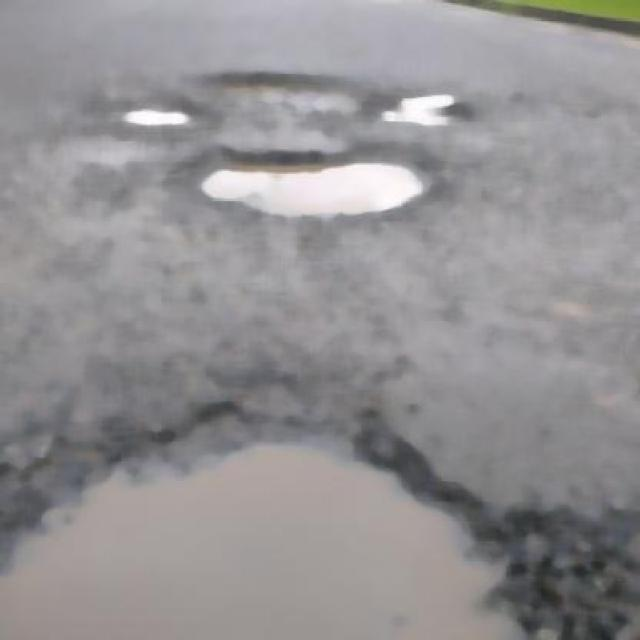Pothole: (0, 394, 611, 638), (198, 132, 445, 250)
